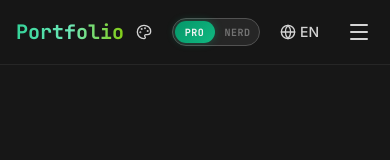
Test: Header mobile menu › opens and closes with the toggle and keeps aria-expanded in sync
Click the button named "Menu" at x=359, y=32, box [339,12,379,52]
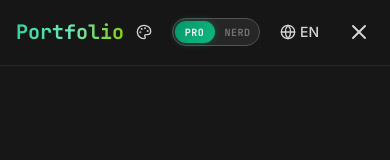
Expected: the button named "Menu" is expanded
Click the button named "Menu" at x=359, y=32, box [339,12,379,52]
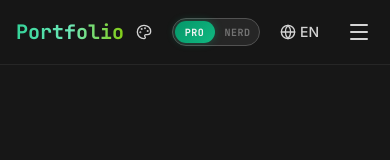
Expected: the button named "Menu" is collapsed, [339,12,379,52]
